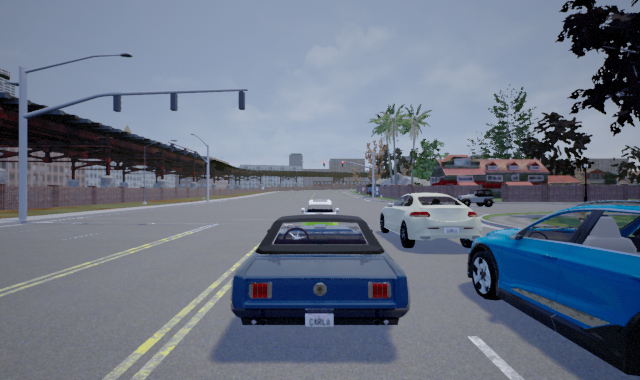traffic_light: (340, 159, 343, 167), (322, 161, 325, 167)
vehicle: (465, 197, 639, 379), (229, 212, 410, 326), (379, 192, 483, 249), (297, 198, 342, 241), (459, 189, 493, 207)
